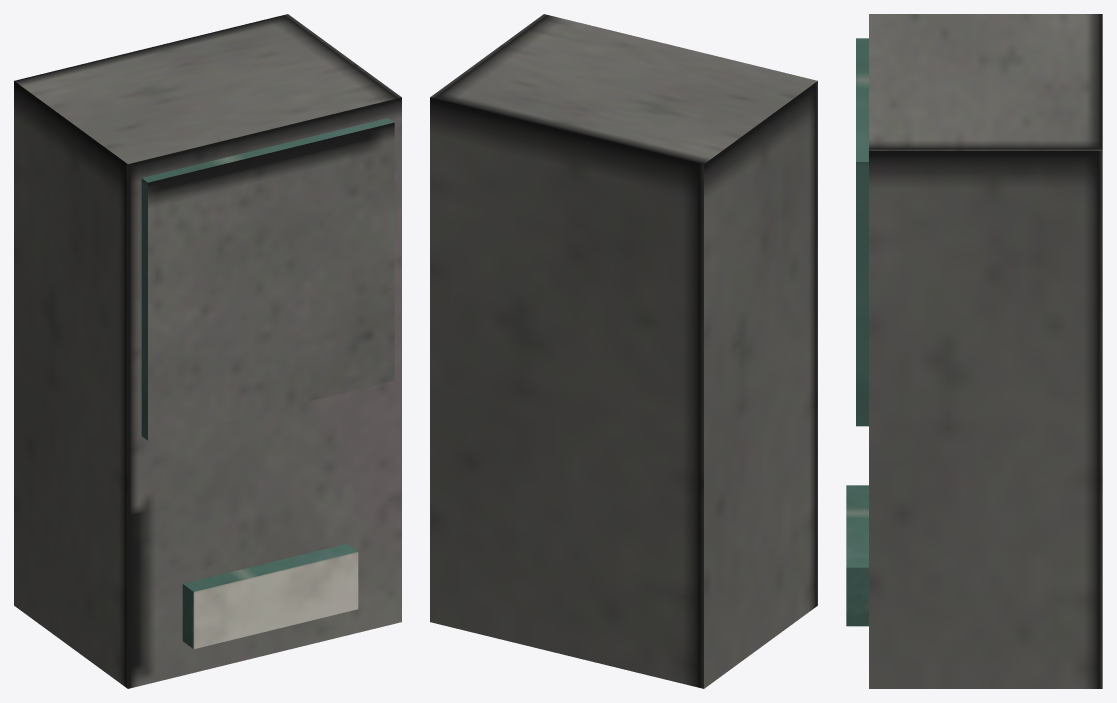
The model's file is vending_drinks.fbx.
The picture shows the model from 3 angles, left to right: view 1: azimuth 30°, elevation 25°; view 2: azimuth 150°, elevation 25°; view 3: azimuth 270°, elevation 25°; orthographic projection. The views are drawn at different scales.
Parts seen in each view (by area): view 1: vending_drinks; view 2: vending_drinks; view 3: vending_drinks.
Part boxes in pixels (left/top/right/bottom): vending_drinks: left=14, top=14, right=401, bottom=688; vending_drinks: left=430, top=14, right=817, bottom=688; vending_drinks: left=846, top=14, right=1102, bottom=688.
Bounding box in the file's own units: 1 × 1.83 × 0.79.
